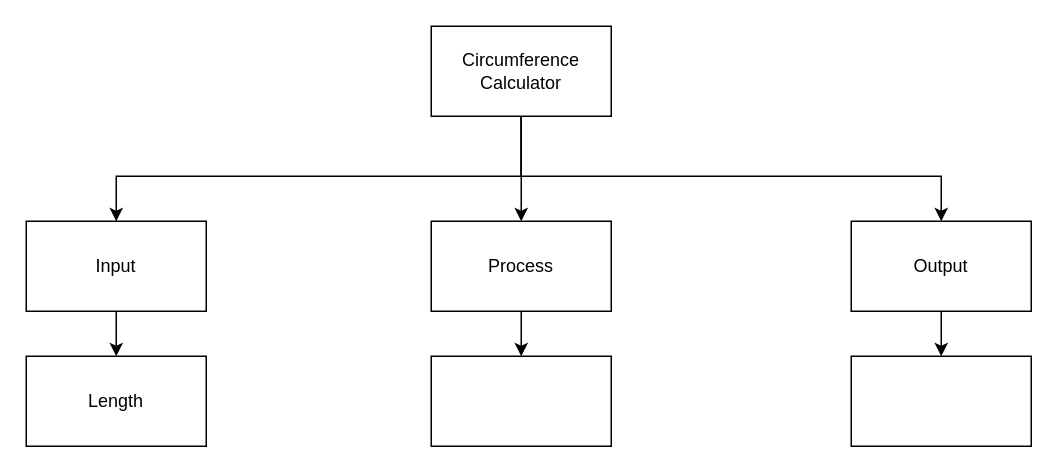
This 1058x473 diagram has some shape labels left out. The centre of each missing label's shape, as x and y in pixels:
"C= τr" goes at pixel 520 400.
"Show circumference" goes at pixel 940 400.
